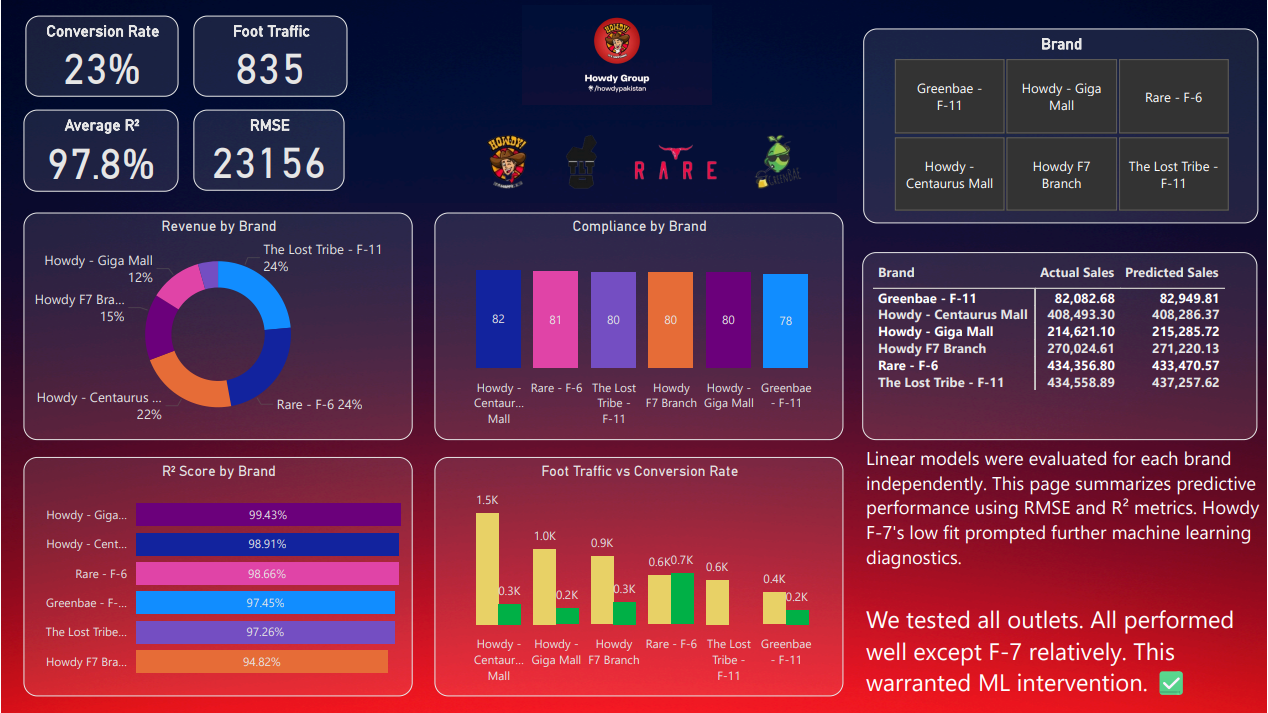

This screenshot's page, from the dashboard's own definition file:
{"tool":"powerbi","page":{"name":" Segmented Regression Model Comparison","canvas":[1280,720],"ordinal":0},"visuals":[{"type":"card","title":"Average R²","fields":{"Values":["Avg(AllOutletsModel.R2_Score)"]},"box":[21.7,109.8,156.8,83.2],"z":0},{"type":"card","title":"RMSE","fields":{"Values":["Avg(AllOutletsModel.RMSE)"]},"box":[194,110.2,152.8,82.3],"z":1000},{"type":"donutChart","title":"Revenue by Brand","fields":{"Category":["AllOutletsModel.Brand"],"Y":["Sum(AllOutletsModel.Total_Sales_PKR)"]},"box":[21.7,213.5,394.5,230.4],"z":2000},{"type":"columnChart","title":"Compliance by Brand","fields":{"Y":["Avg(AllOutletsModel.Compliance_Score)"],"Category":["AllOutletsModel.Brand"],"Series":["AllOutletsModel.Outlet_ID"]},"box":[437.9,213.5,413.8,230.4],"z":3000},{"type":"pivotTable","fields":{"Rows":["AllOutletsModel.Brand"],"Values":["Avg(AllOutletsModel.Total_Sales_PKR)","Avg(AllOutletsModel.Predicted_Sales_LR)"]},"box":[871.4,254.3,400,190],"z":4000},{"type":"barChart","title":"R² Score by Brand","fields":{"Category":["AllOutletsModel.Brand"],"Y":["Avg(AllOutletsModel.R2_Score)"],"Series":["AllOutletsModel.Outlet_ID"]},"box":[21.7,460.9,394.5,242.5],"z":5000},{"type":"clusteredColumnChart","title":"Foot Traffic vs Conversion Rate","fields":{"Category":["AllOutletsModel.Brand"],"Y":["Avg(AllOutletsModel.Foot_Traffic_Adjusted)","Avg(AllOutletsModel.Conversion_Rate)"]},"box":[437.9,460.9,413.8,242.5],"z":6000},{"type":"slicer","title":"Brand","fields":{"Values":["AllOutletsModel.Brand"]},"box":[871.7,28.3,400,196.7],"z":7000},{"type":"textbox","box":[869.9,443.8,410,276.2],"z":8000},{"type":"image","box":[347.2,111.1,502.8,101.4],"z":9000},{"type":"image","box":[409,0,427,110],"z":10000},{"type":"card","title":"Conversion Rate","fields":{"Values":["Avg(AllOutletsModel.Simulated_Conversion_Rate)"]},"box":[23.5,14.7,155.8,82.3],"z":11000},{"type":"card","title":"Foot Traffic","fields":{"Values":["Avg(AllOutletsModel.Foot_Traffic_Adjusted)"]},"box":[194,14.7,155.8,82.3],"z":12000}]}

Visuals, with their boxes in screenshot pixels (x1, y1, x2, y2), scaled from the page's 1280x720 canvas onto the 1268x713 screenshot:
"Average R²" card: (x1=21, y1=109, x2=177, y2=191)
"RMSE" card: (x1=192, y1=109, x2=344, y2=191)
"Revenue by Brand" donutChart: (x1=21, y1=211, x2=412, y2=440)
"Compliance by Brand" columnChart: (x1=434, y1=211, x2=844, y2=440)
pivotTable - AllOutletsModel.Brand x Avg(AllOutletsModel.Total_Sales_PKR): (x1=863, y1=252, x2=1259, y2=440)
"R² Score by Brand" barChart: (x1=21, y1=456, x2=412, y2=697)
"Foot Traffic vs Conversion Rate" clusteredColumnChart: (x1=434, y1=456, x2=844, y2=697)
"Brand" slicer: (x1=864, y1=28, x2=1260, y2=223)
textbox: (x1=862, y1=439, x2=1267, y2=712)
image: (x1=344, y1=110, x2=842, y2=210)
image: (x1=405, y1=0, x2=828, y2=109)
"Conversion Rate" card: (x1=23, y1=15, x2=178, y2=96)
"Foot Traffic" card: (x1=192, y1=15, x2=347, y2=96)
